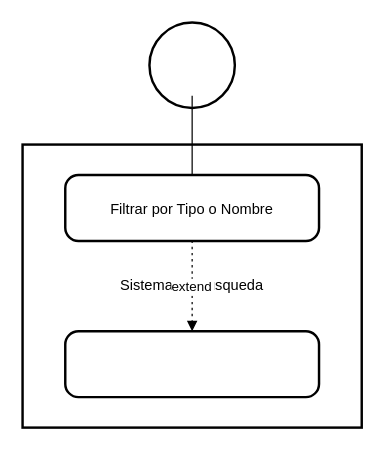
The diagram is 383 pixels wide and 449 high, and some of its shapes have lost their labels. Each missing label, with the box of its shape:
Actualizar Vista en React: (63, 329, 320, 398)
Usuario: (148, 21, 235, 109)
